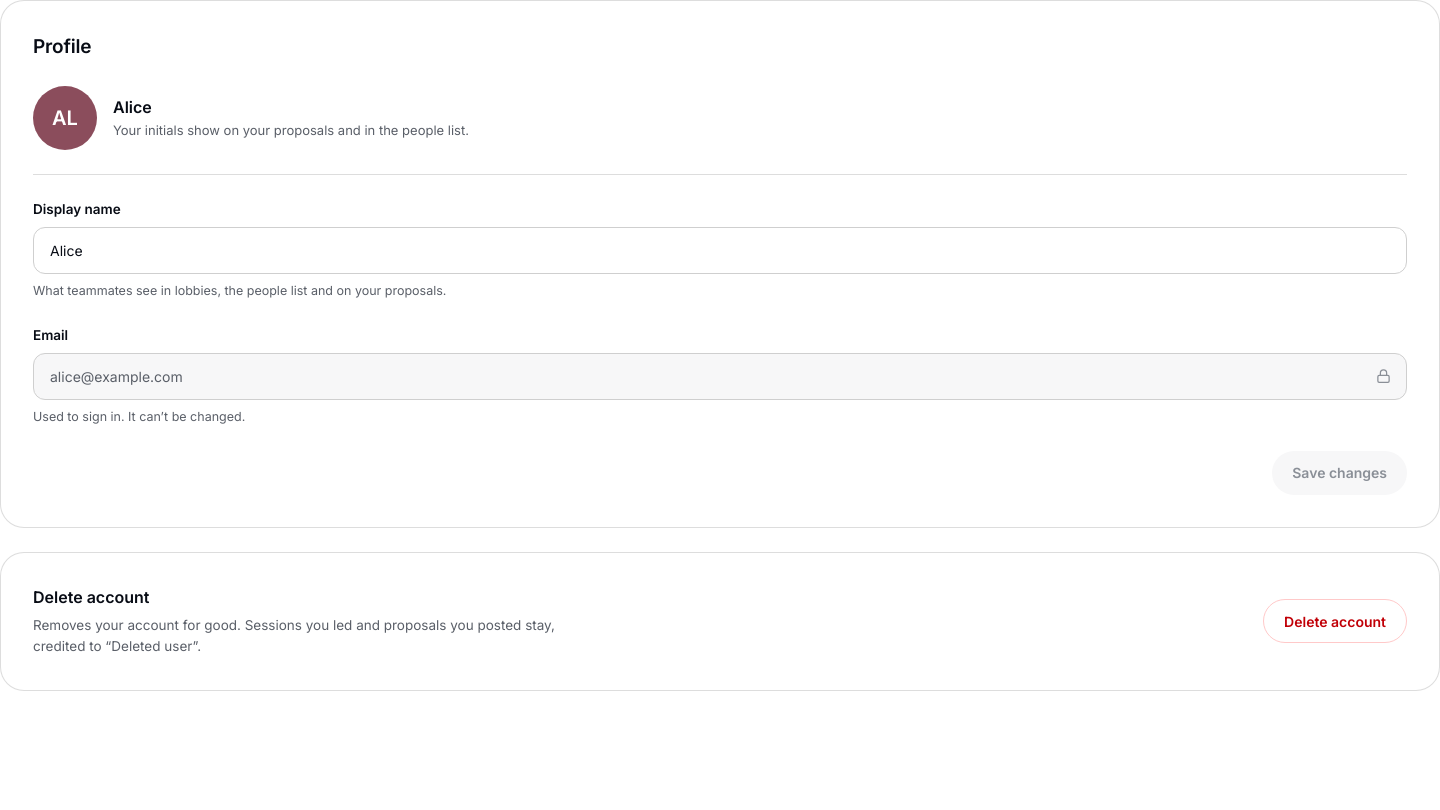
Test: ProfilePage › delete account › asks first, and will not go ahead until the password is typed
This screenshot has width=1440, height=810.
Expected: the field showing "alice@example.com" is shown, x1=33 y1=353 x2=1407 y2=400
Click the button "Delete account" at (1335, 621), box x1=1263 y1=599 x2=1407 y2=643
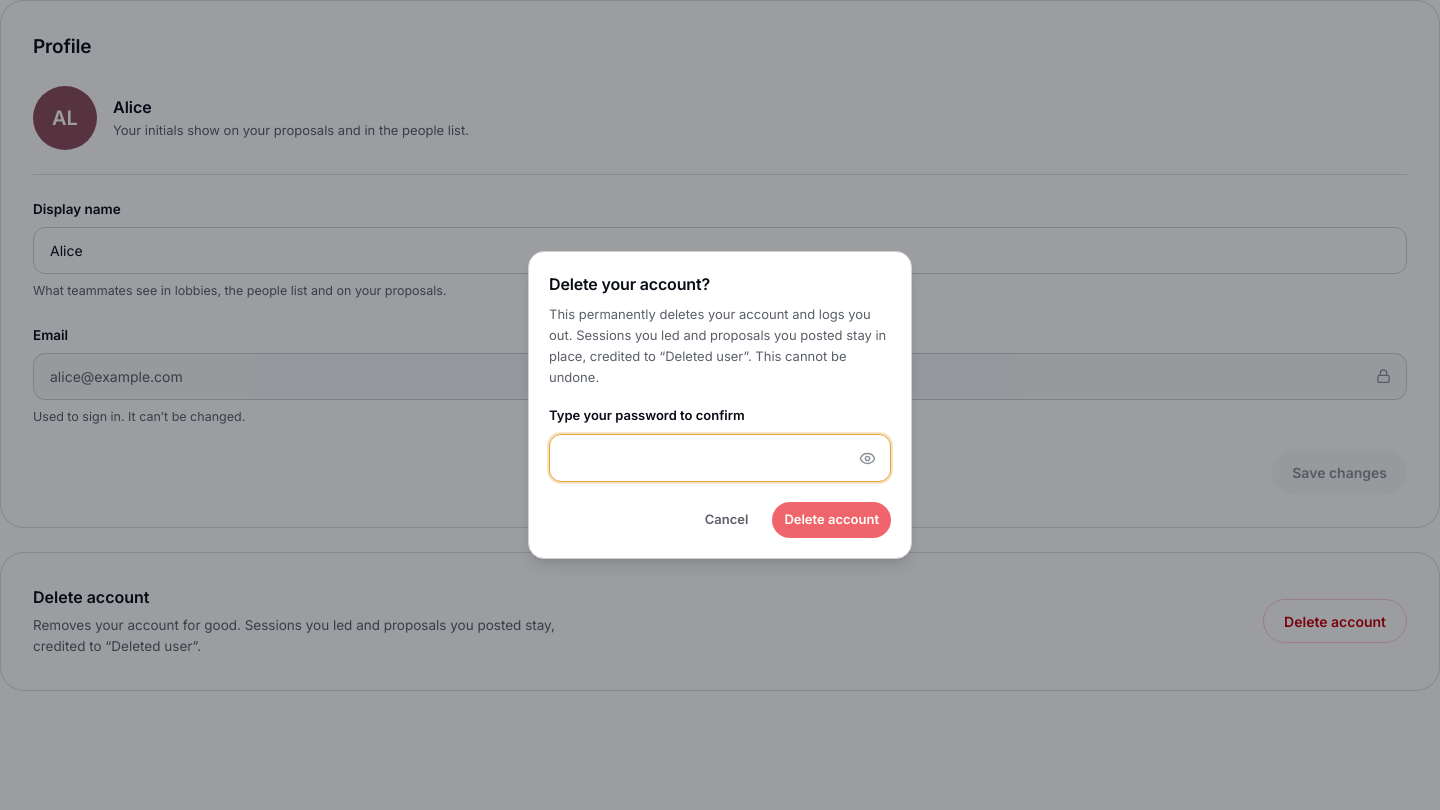
Expected: the button "Delete account" below "Type your password to confirm" is disabled, x1=772 y1=502 x2=891 y2=538
Type "hunter2" into the password field labelled "Type your password to confirm" at (720, 458), box x1=549 y1=434 x2=891 y2=482
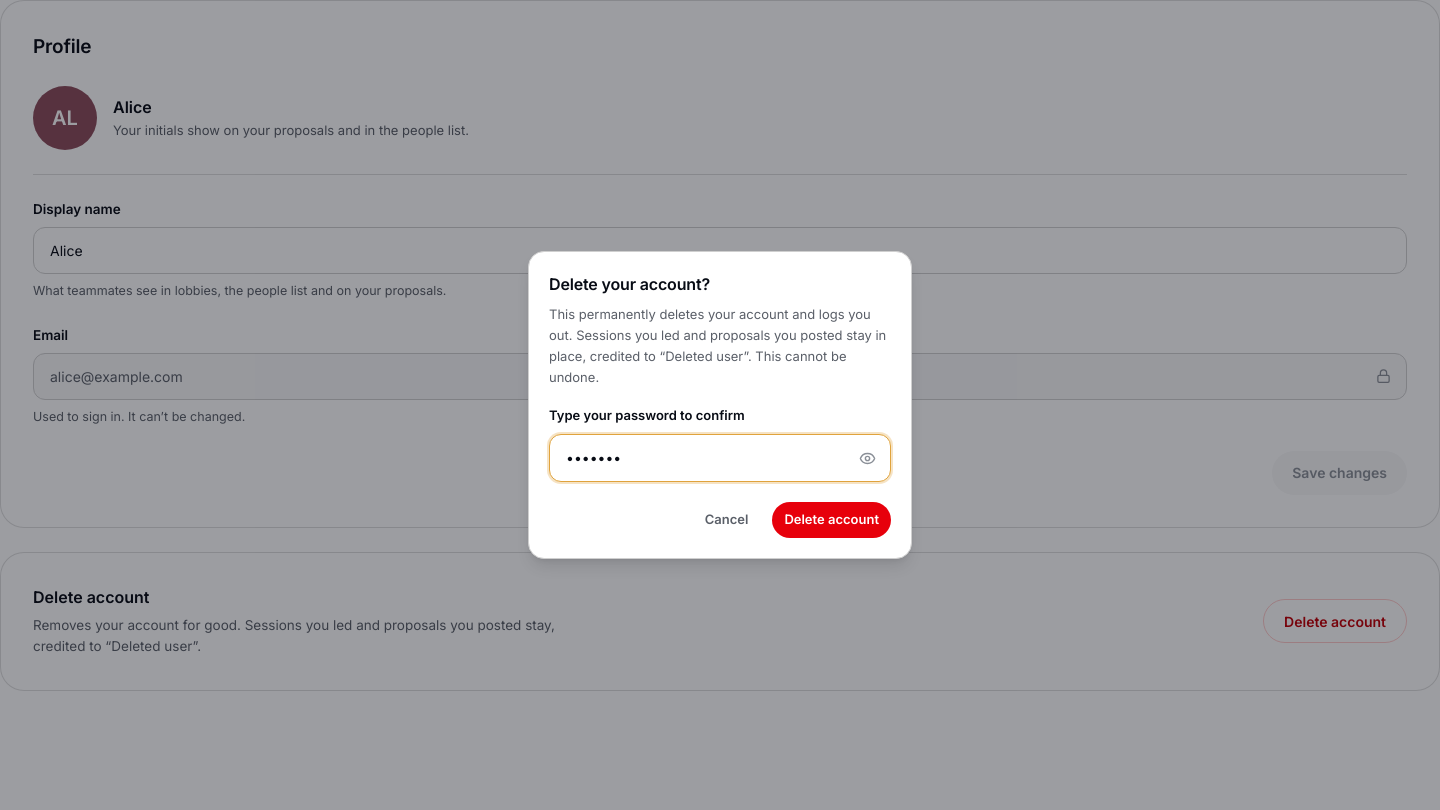
Expected: the button "Delete account" below "Type your password to confirm" is enabled, x1=772 y1=502 x2=891 y2=538
